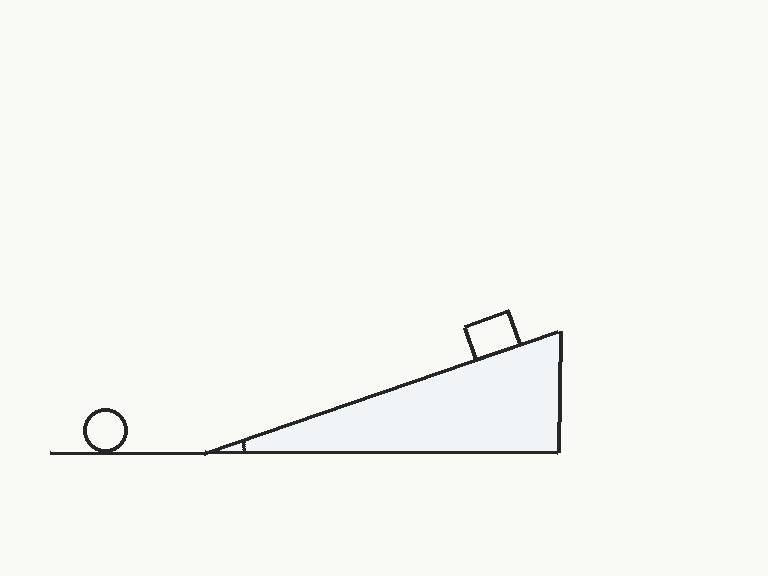ball: (81, 406, 129, 454)
block: (462, 309, 521, 361)
ramp: (202, 328, 561, 454)
